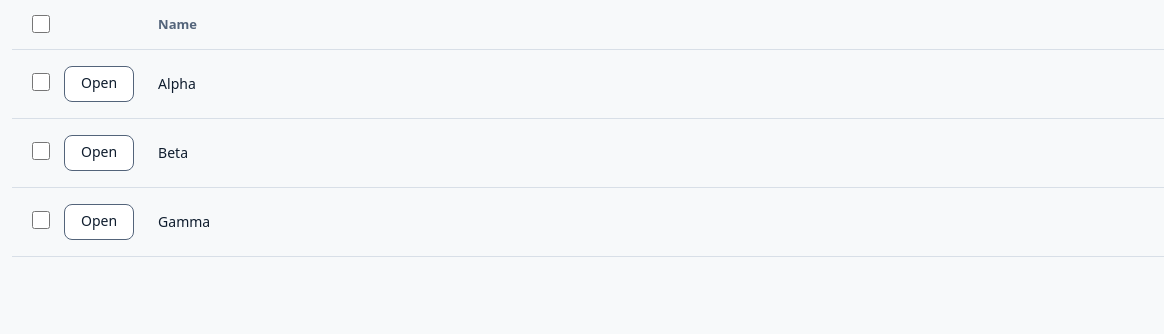
Test case: DataTable + useRowSelection + SelectionSummary, composed › all matching: offered with a total, named in the count, and left by unchecking one row
The image size is (1164, 334).
Click the checkbox named "Select all rows on this page".
click(41, 24)  # box [32,15,50,33]
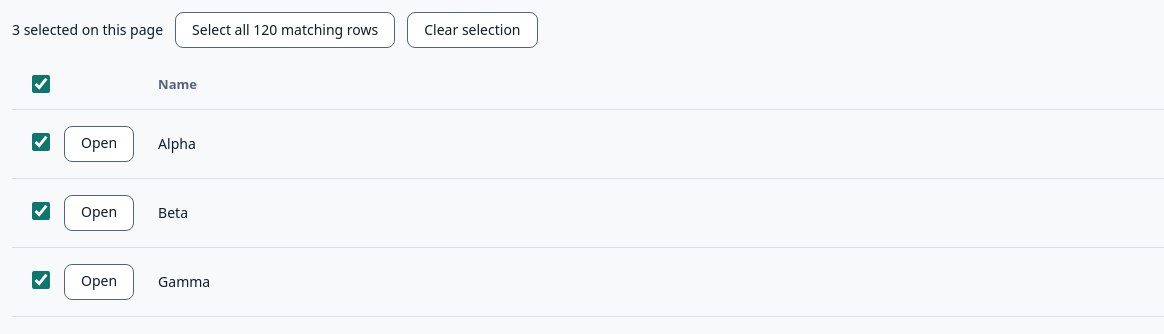
Click the button "Select all 120 matching rows".
click(285, 30)  # box [175,12,395,48]
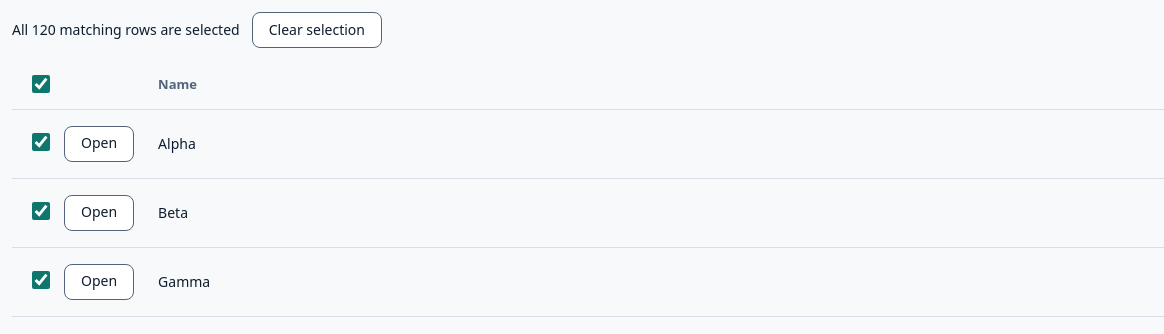
expect the text "All 120 matching rows are selected" is shown: met, box [12,18,240,42]
Click the checkbox named "Select Beta".
click(41, 211)  # box [32,202,50,220]
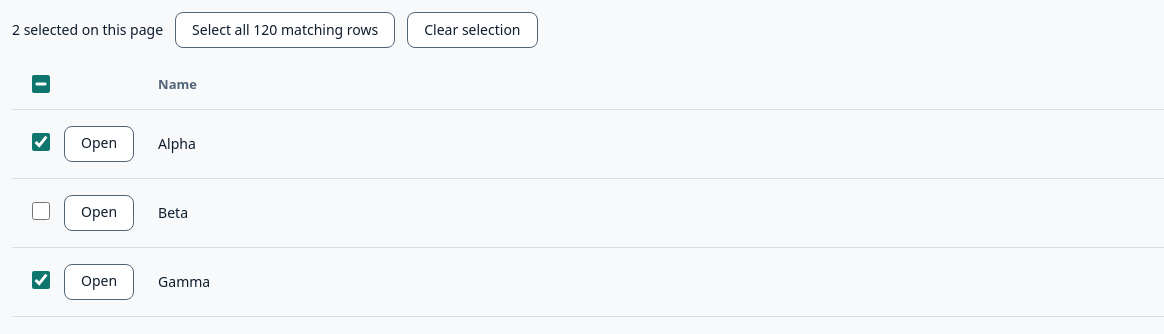
expect the text "2 selected on this page" is shown: met, box [12,18,163,42]
expect the button "Select all 120 matching rows" is shown: met, box [175,12,395,48]
